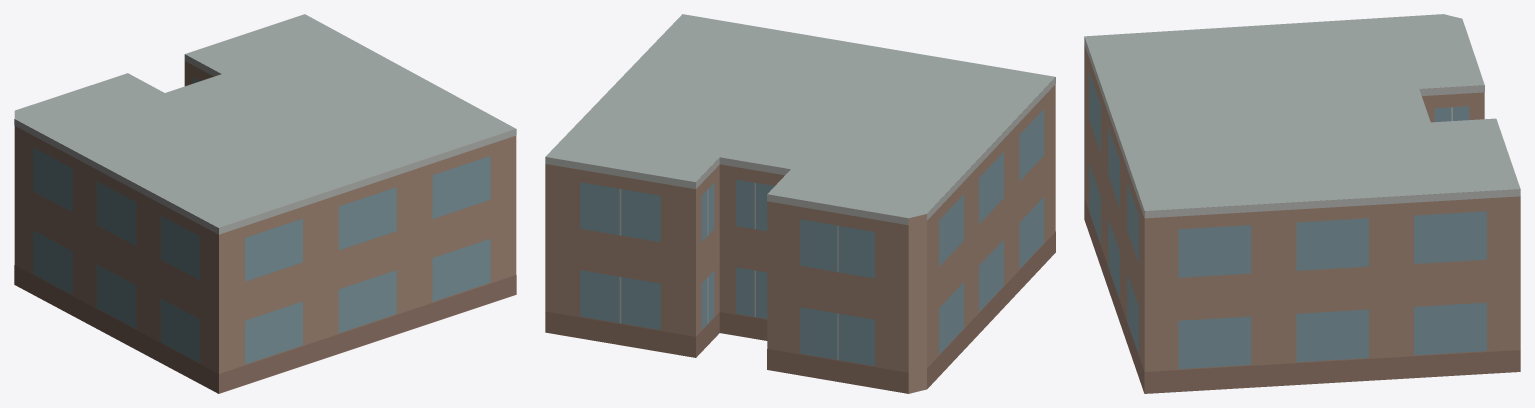
The model's file is survey-upis-32527041.glb.
3 renders of one model, left to right at view 1: azimuth 30°, elevation 25°; view 2: azimuth 150°, elevation 25°; view 3: azimuth 270°, elevation 25°, orthographic. The views are drawn at different scales.
Visible parts, largest first — view 1: survey-upis-32527041.tmp; view 2: survey-upis-32527041.tmp; view 3: survey-upis-32527041.tmp.
Boxes of the visible parts, x1=… form: survey-upis-32527041.tmp: x1=14, y1=14, x2=516, y2=393; survey-upis-32527041.tmp: x1=545, y1=14, x2=1055, y2=393; survey-upis-32527041.tmp: x1=1084, y1=14, x2=1520, y2=393.
Size of the model in its own units: 14.12 by 6.1 by 13.21.
